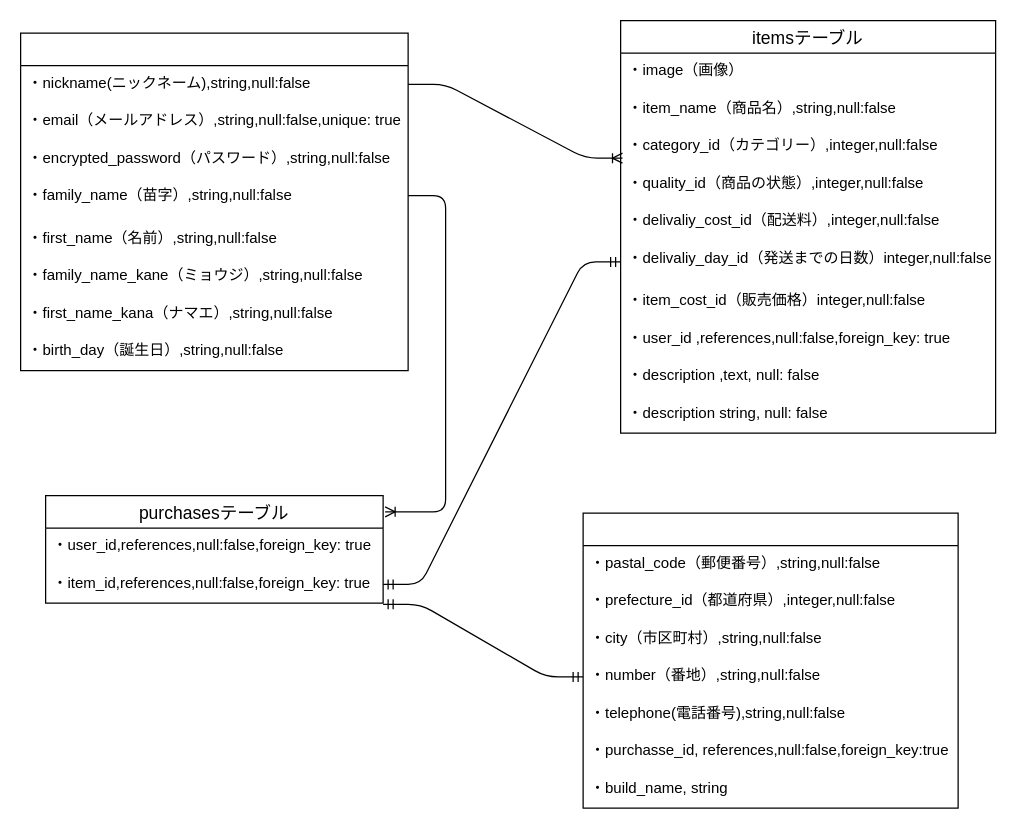
Image size: 1016x829. Some labels were removed from this diagram. The box of each missing label's shape, as (x1, y1, x2, y2) in pixels:
adressesテーブル: (582, 512, 958, 808)
usersテーブル: (19, 32, 408, 371)
